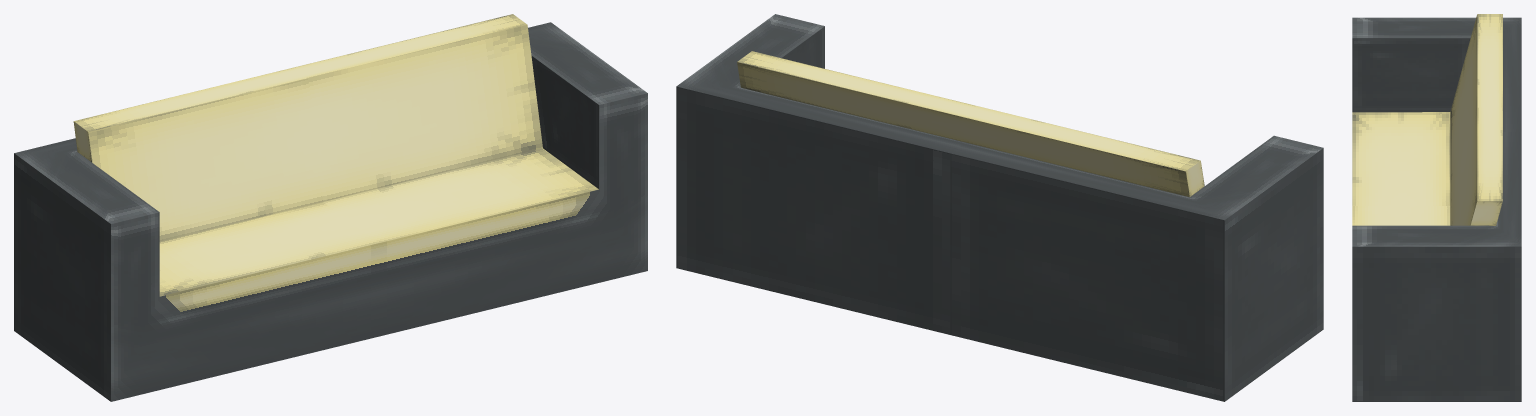
Rendered from sofa2.fbx.
3 renders of one model, left to right at view 1: azimuth 30°, elevation 25°; view 2: azimuth 150°, elevation 25°; view 3: azimuth 270°, elevation 25°, orthographic. The views are drawn at different scales.
Visible parts, largest first — view 1: sofa2; view 2: sofa2; view 3: sofa2.
Boxes of the visible parts, x1,y1,x2,y2 form: sofa2: [14, 14, 647, 401]; sofa2: [676, 14, 1323, 401]; sofa2: [1352, 14, 1521, 401].
Bounding box in the file's own units: 244 × 89.37 × 76.34.
